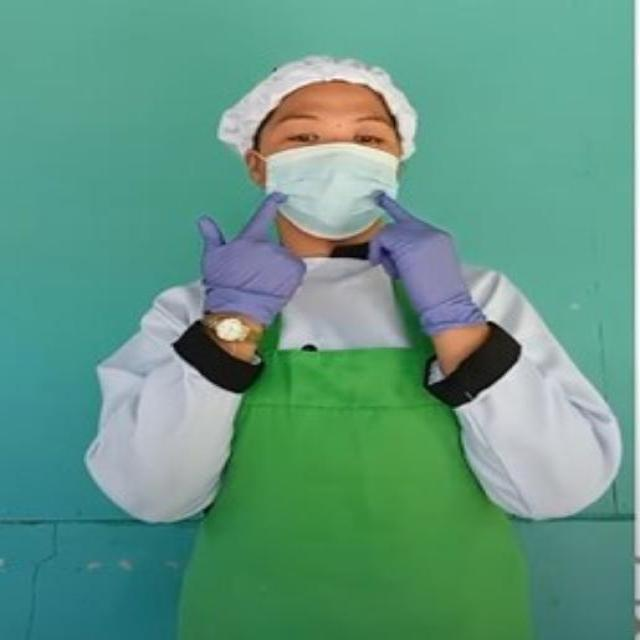gloved_hand: (159, 188, 318, 340), (363, 188, 512, 346)
